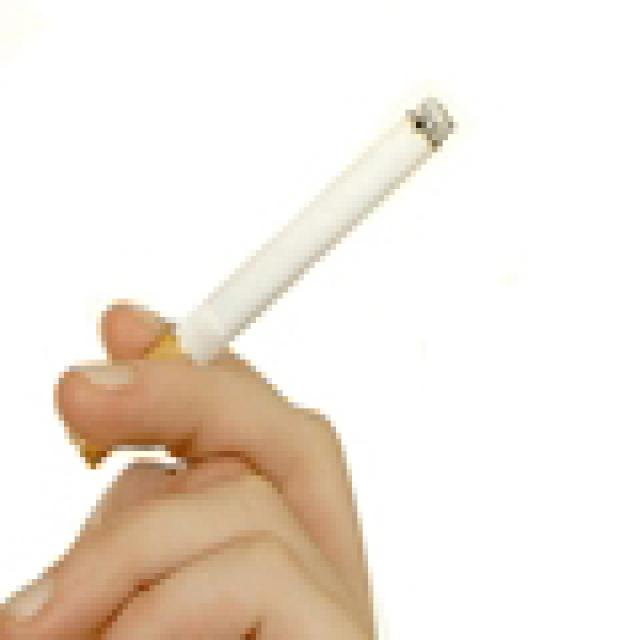smoking: (68, 94, 459, 467)
